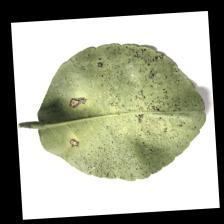canker: (55, 48, 193, 174)
